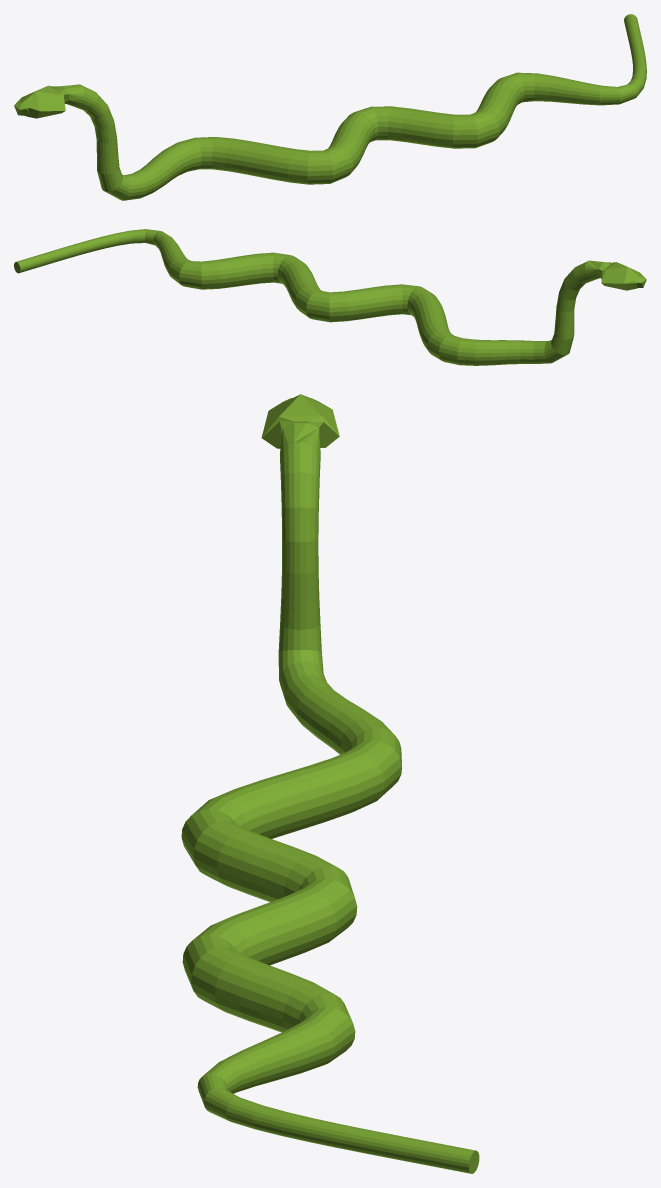
File: snakeAnimated2.fbx
The picture shows the model from 3 angles, top to bottom: view 1: azimuth 30°, elevation 25°; view 2: azimuth 150°, elevation 25°; view 3: azimuth 270°, elevation 25°; orthographic projection. The views are drawn at different scales.
Parts seen in each view (by area): view 1: snake body, snake head; view 2: snake body, snake head; view 3: snake body, snake head.
Part boxes in pixels (x1,y1,x2,y2): snake body: [75, 14, 646, 200]; snake head: [14, 84, 84, 118]; snake body: [14, 229, 593, 365]; snake head: [584, 260, 646, 290]; snake body: [181, 441, 479, 1173]; snake head: [261, 394, 339, 453].
Size of the model in its own units: 906 by 178 by 199.
